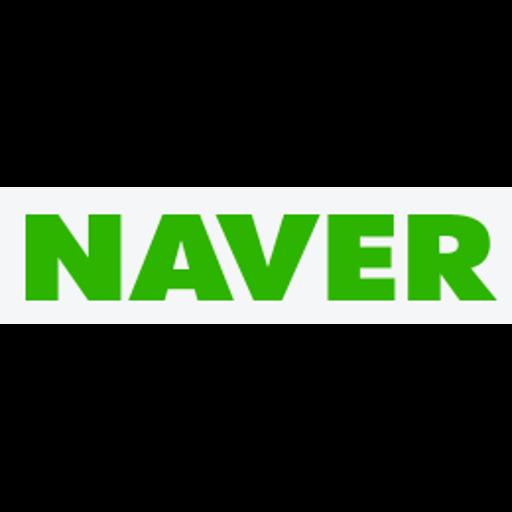Naver: (0, 187, 512, 324)
